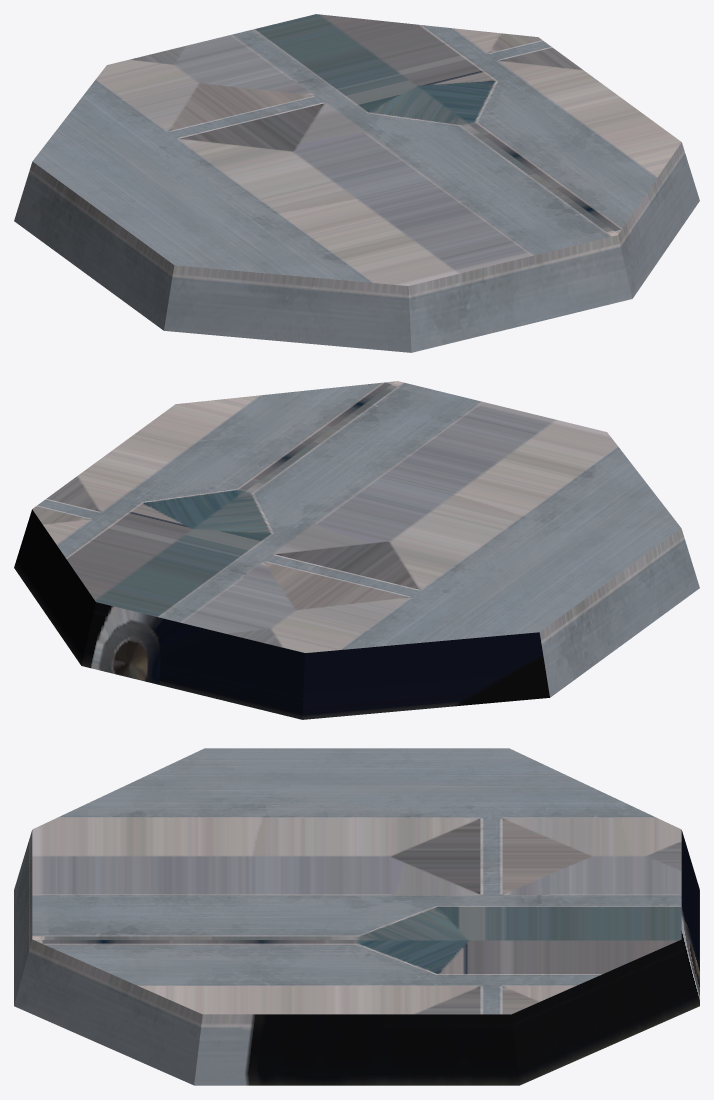
The model's file is DS_SM027_Misc_Button_01.fbx.
3 renders of one model, top to bottom at view 1: azimuth 30°, elevation 25°; view 2: azimuth 150°, elevation 25°; view 3: azimuth 270°, elevation 25°, orthographic. The views are drawn at different scales.
Visible parts, largest first — view 1: DS_SM027_Misc_Button_01; view 2: DS_SM027_Misc_Button_01; view 3: DS_SM027_Misc_Button_01.
Boxes of the visible parts, x1,y1,x2,y2 form: DS_SM027_Misc_Button_01: [14, 14, 699, 352]; DS_SM027_Misc_Button_01: [14, 381, 699, 719]; DS_SM027_Misc_Button_01: [14, 748, 699, 1085].
Size of the model in its own units: 70.01 by 7.39 by 72.24.
